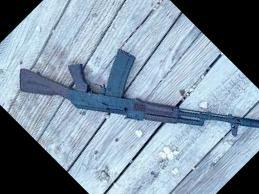larga: (20, 48, 259, 136)
